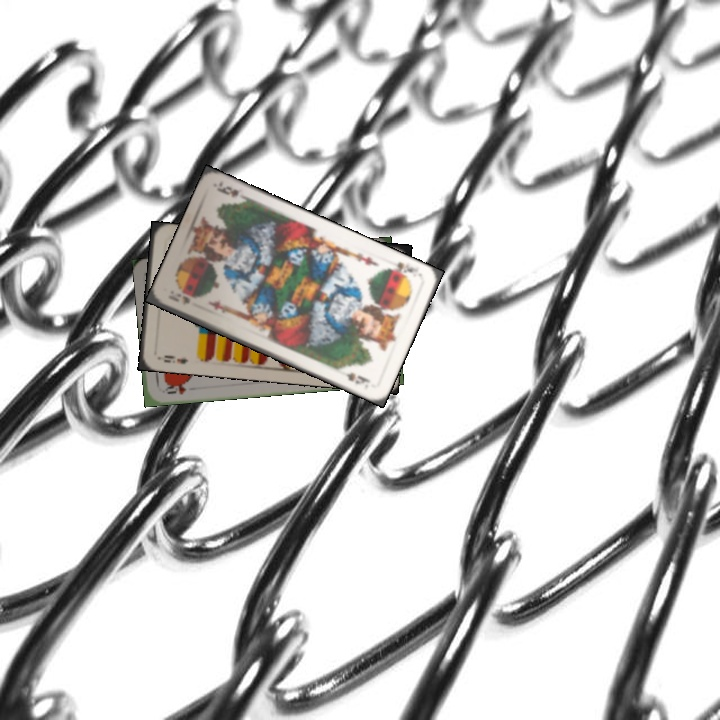E9: (154, 351, 190, 366)
HO: (161, 379, 189, 397)
SK: (384, 258, 417, 280), (164, 289, 193, 307)
